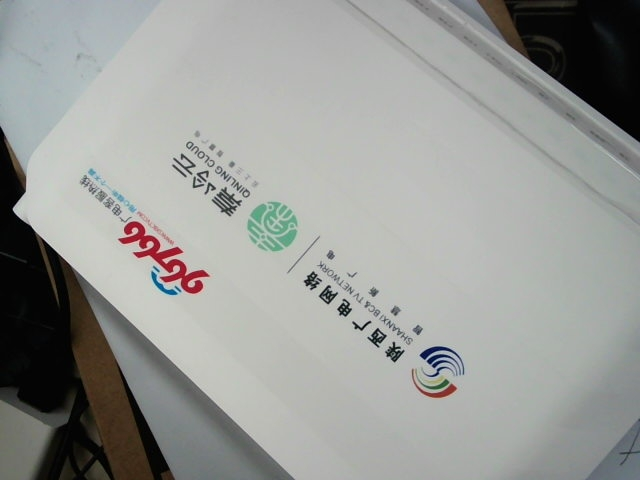AE_QinLing: (170, 124, 300, 256)
